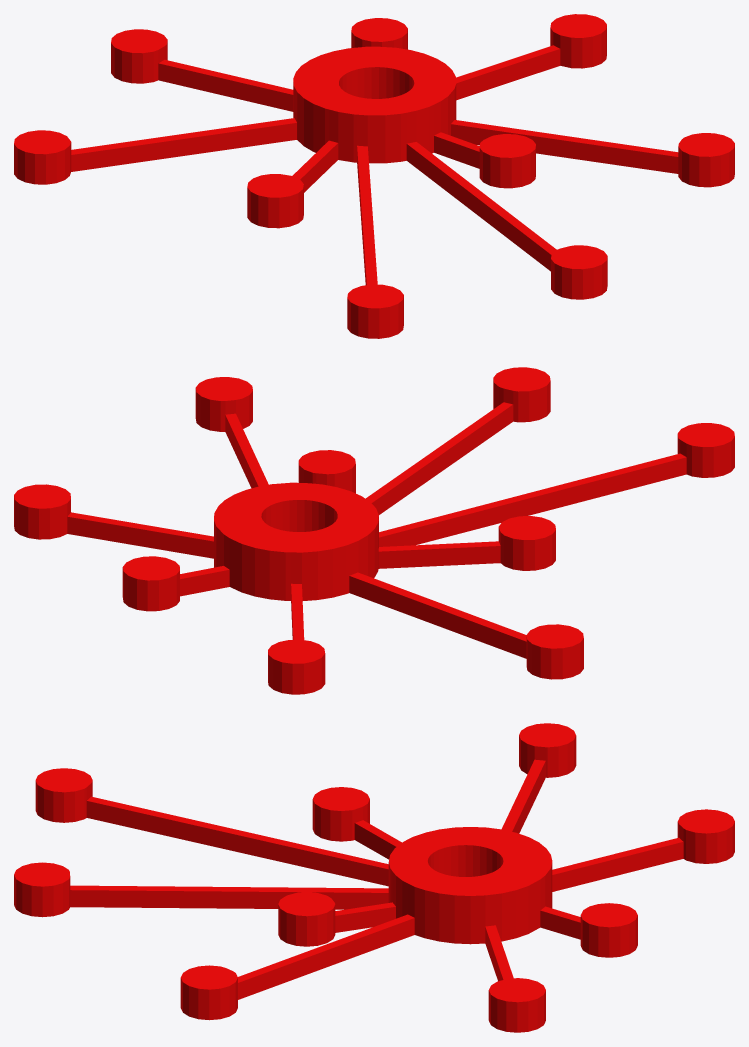
File: Hackathon.obj
The picture shows the model from 3 angles, top to bottom: view 1: azimuth 30°, elevation 25°; view 2: azimuth 150°, elevation 25°; view 3: azimuth 270°, elevation 25°; orthographic projection.
Visible parts, largest first — view 1: Cube; view 2: Cube; view 3: Cube.
Part boxes in pixels (<box>): Cube: <box>14,14,734,338</box>; Cube: <box>14,367,734,694</box>; Cube: <box>14,723,734,1032</box>.
Bounding box in the file's own units: 8.06 × 0.6486 × 8.8.
Materials: 1 (1 with a texture image).
